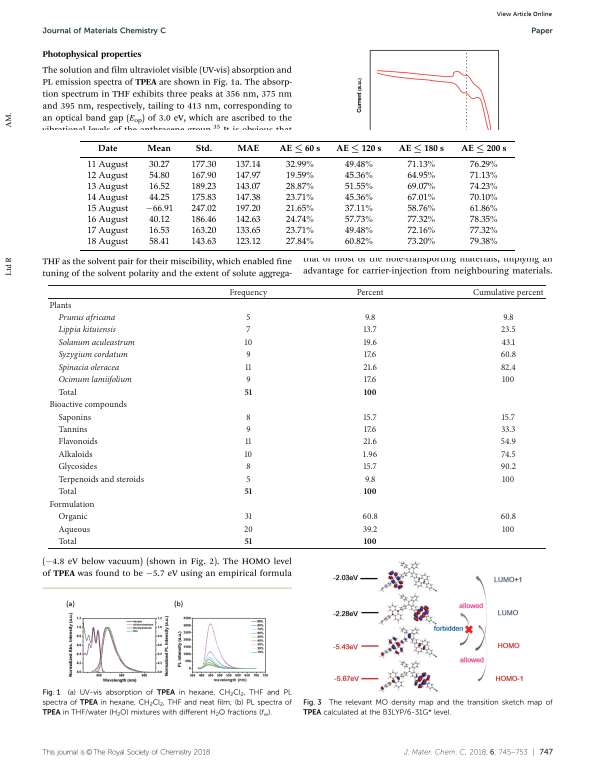borderless: (46, 283, 546, 548), (79, 139, 515, 250)
cell: (57, 474, 145, 485), (48, 399, 128, 410), (57, 337, 136, 348), (57, 374, 133, 385), (472, 287, 545, 298), (57, 350, 129, 360), (57, 362, 120, 373), (57, 312, 116, 323), (57, 325, 117, 335), (48, 499, 95, 510), (335, 144, 382, 154), (397, 144, 444, 154), (460, 144, 507, 154), (86, 160, 128, 171), (86, 171, 128, 182), (86, 182, 128, 193), (86, 193, 128, 204), (86, 204, 128, 215), (86, 215, 128, 226), (86, 226, 128, 237), (86, 237, 128, 248), (278, 144, 321, 154), (229, 287, 268, 298), (57, 437, 99, 447), (57, 462, 98, 472), (57, 449, 94, 460), (57, 524, 91, 535), (57, 511, 89, 522), (57, 412, 92, 422), (57, 424, 88, 435), (343, 160, 373, 171), (406, 160, 436, 171), (468, 160, 498, 171), (343, 171, 373, 182), (406, 171, 436, 182), (468, 171, 498, 182), (343, 182, 373, 193), (406, 182, 436, 193), (468, 182, 498, 193), (343, 193, 373, 204), (406, 193, 436, 204), (468, 193, 498, 204), (144, 204, 174, 215), (343, 204, 373, 215), (406, 204, 436, 215), (468, 204, 498, 215), (343, 215, 373, 226), (406, 215, 436, 226), (468, 215, 498, 226), (343, 226, 373, 237), (406, 226, 436, 237), (468, 226, 498, 237), (343, 237, 373, 248), (406, 237, 436, 248), (468, 237, 498, 248), (356, 287, 385, 298), (285, 160, 314, 171), (285, 171, 314, 182), (285, 182, 314, 193), (285, 193, 314, 204), (285, 204, 314, 215), (285, 215, 314, 226), (285, 226, 314, 237), (285, 237, 314, 248), (190, 160, 217, 171), (234, 160, 261, 171), (190, 171, 217, 182), (234, 171, 261, 182), (190, 182, 217, 193), (234, 182, 261, 193), (190, 193, 217, 204), (234, 193, 261, 204), (190, 204, 217, 215), (234, 204, 261, 215), (190, 215, 217, 226), (234, 215, 261, 226), (190, 226, 217, 237), (234, 226, 261, 237), (190, 237, 217, 248), (234, 237, 261, 248), (148, 160, 170, 171), (148, 171, 170, 182), (148, 182, 170, 193), (148, 193, 170, 204), (148, 215, 170, 226), (148, 226, 170, 237), (148, 237, 170, 248), (48, 300, 72, 310), (57, 387, 78, 398), (57, 536, 78, 547), (57, 487, 78, 497), (146, 144, 172, 152), (500, 362, 517, 373), (500, 449, 517, 460), (362, 511, 379, 522), (500, 511, 517, 522), (236, 144, 259, 152), (362, 337, 378, 348), (362, 362, 378, 373), (500, 424, 516, 435), (362, 449, 378, 460), (362, 524, 378, 535), (96, 144, 118, 152), (500, 325, 517, 335), (500, 350, 517, 360), (500, 437, 517, 447), (500, 462, 517, 472), (501, 337, 516, 348), (362, 437, 378, 447), (363, 374, 377, 385), (501, 374, 515, 385), (363, 424, 377, 435), (501, 474, 515, 485), (501, 524, 515, 535), (363, 325, 378, 335), (363, 412, 378, 422), (501, 412, 516, 422), (363, 462, 378, 472), (194, 144, 212, 152), (502, 312, 515, 323), (363, 350, 377, 360), (363, 536, 378, 545), (364, 312, 376, 323), (364, 474, 376, 485), (243, 524, 254, 535), (363, 387, 378, 395), (363, 487, 378, 495), (244, 337, 253, 348), (244, 449, 253, 460), (244, 511, 253, 522), (244, 362, 252, 373), (244, 536, 253, 545), (244, 437, 252, 447), (245, 374, 252, 385), (245, 424, 252, 435), (244, 387, 253, 395), (244, 487, 253, 495), (245, 350, 252, 360), (245, 412, 252, 422), (245, 462, 252, 472), (245, 312, 251, 323), (245, 474, 251, 485), (245, 325, 251, 335)
